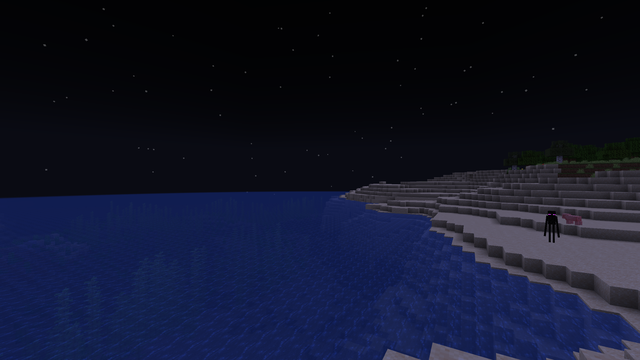cochons: (566, 214, 580, 224)
endermens: (546, 209, 556, 242)
